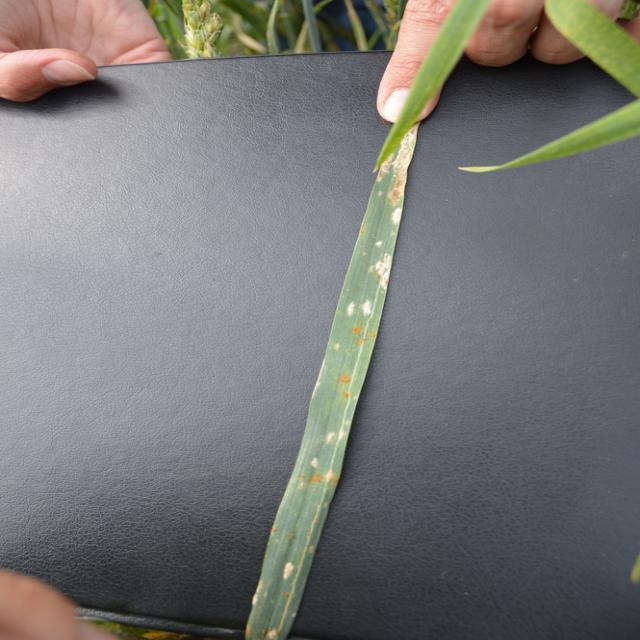wheat-powdery-mildew: (243, 100, 421, 640)
